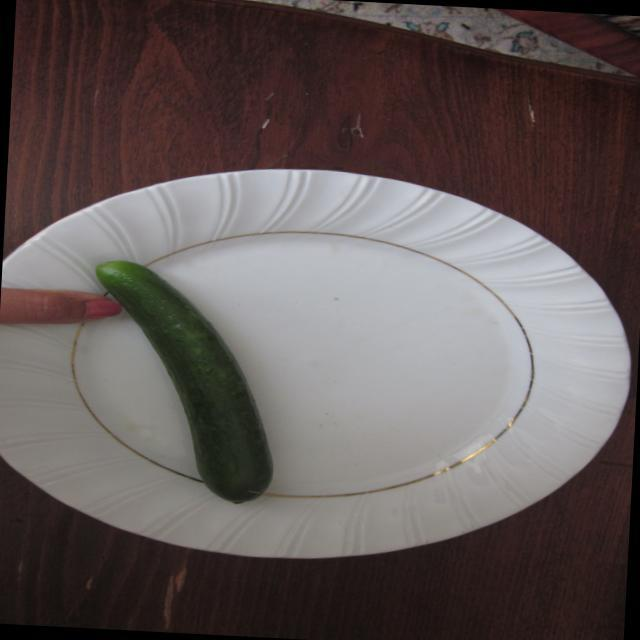Cucumber: (80, 255, 308, 514)
Finger: (27, 284, 128, 331)
